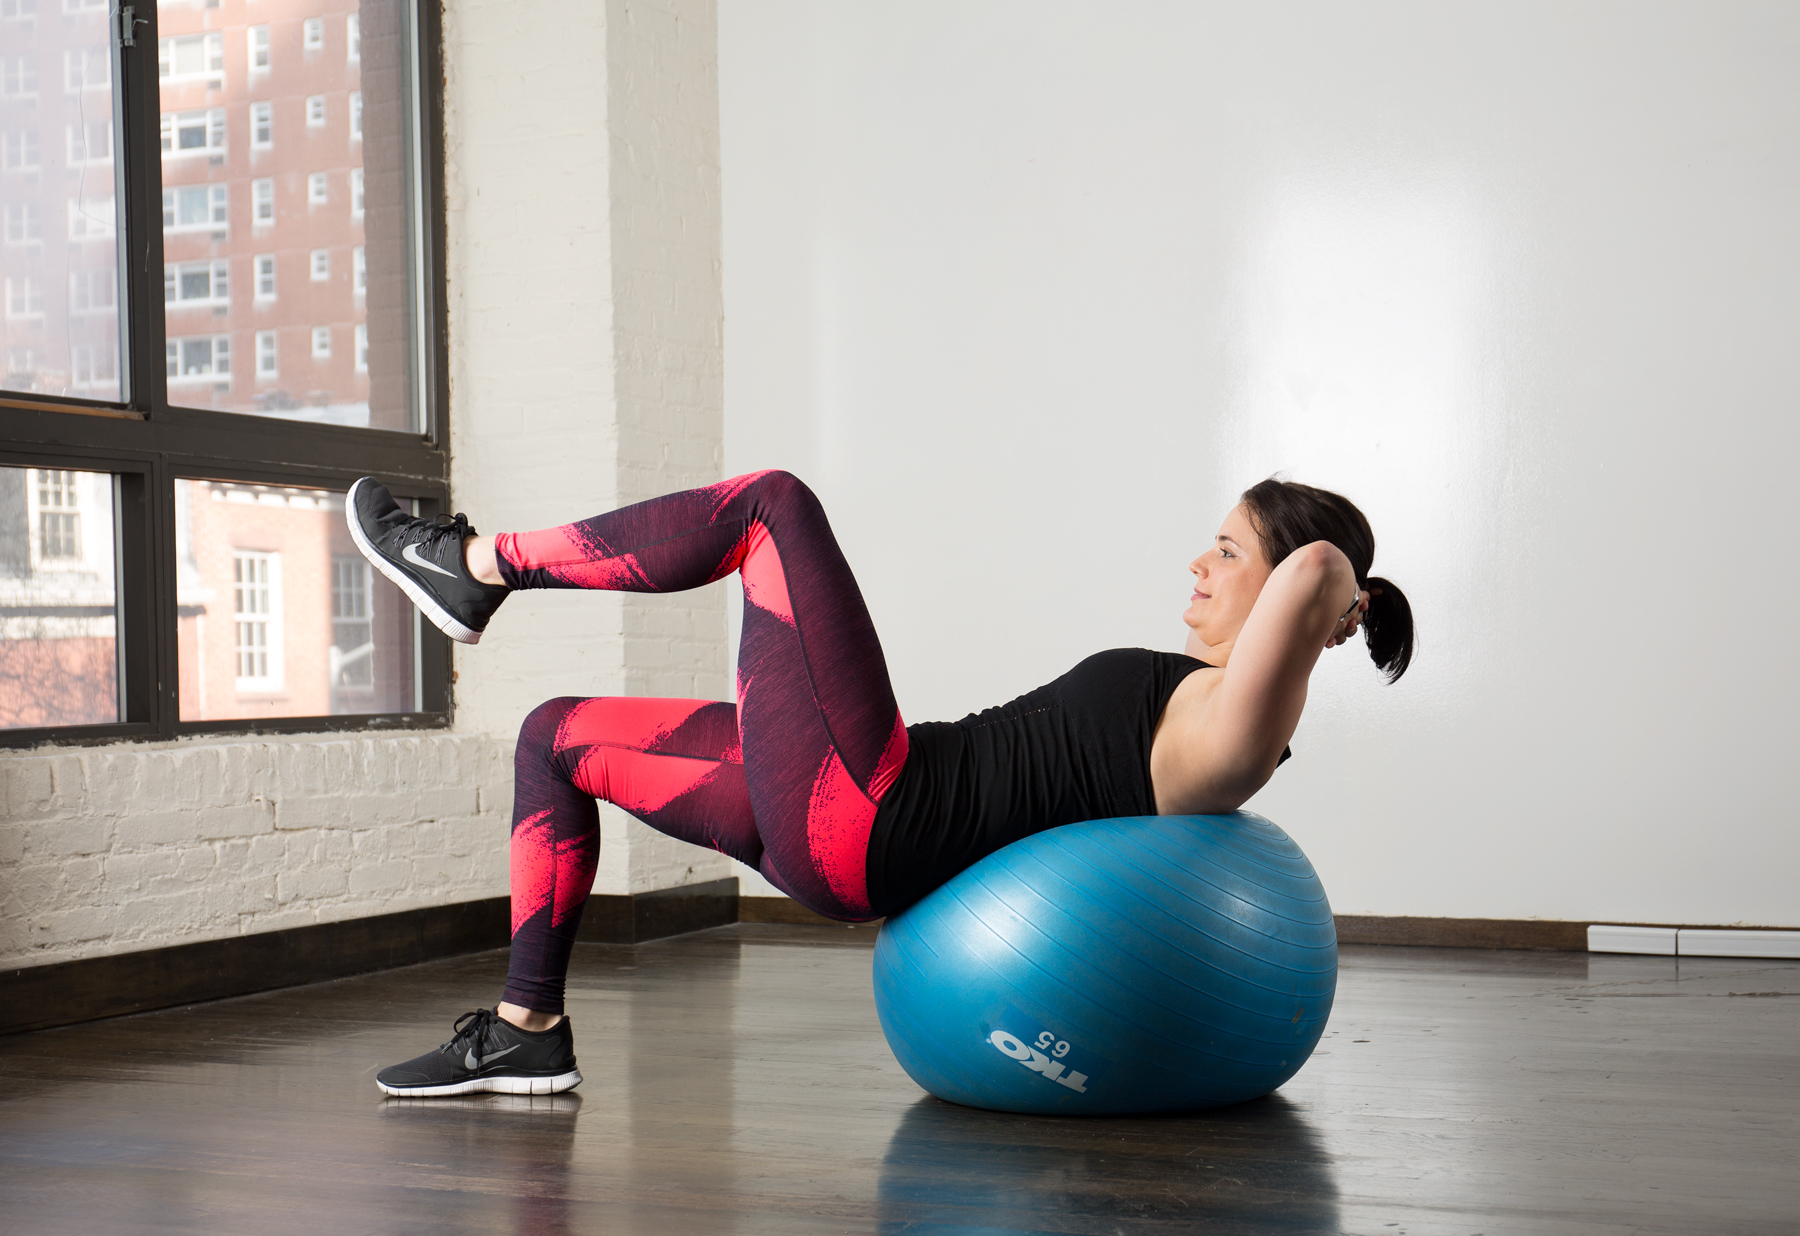yogaball: (864, 798, 1351, 1157)
